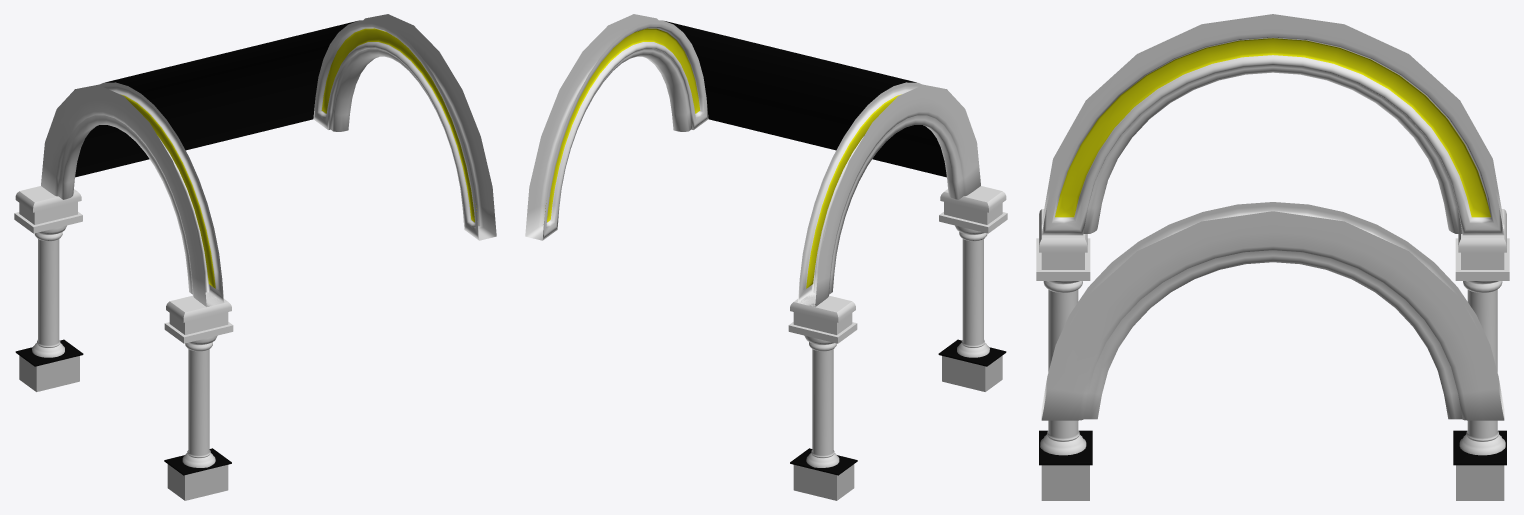
File: MuseumArchway.fbx
3 views of the same model, side by side, from view 1: azimuth 30°, elevation 25°; view 2: azimuth 150°, elevation 25°; view 3: azimuth 270°, elevation 25° (orthographic). The views are drawn at different scales.
Parts seen in each view (by area): view 1: polySurface5, polySurface6; view 2: polySurface5, polySurface6; view 3: polySurface5, polySurface6.
Part boxes in pixels (left/top/right/bottom): polySurface5: left=41, top=14, right=496, bottom=306; polySurface6: left=14, top=186, right=233, bottom=500; polySurface5: left=525, top=14, right=980, bottom=306; polySurface6: left=788, top=186, right=1007, bottom=500; polySurface5: left=1041, top=14, right=1504, bottom=420; polySurface6: left=1036, top=209, right=1509, bottom=500.
Size of the model in its own units: 1389 by 1430 by 1298.
